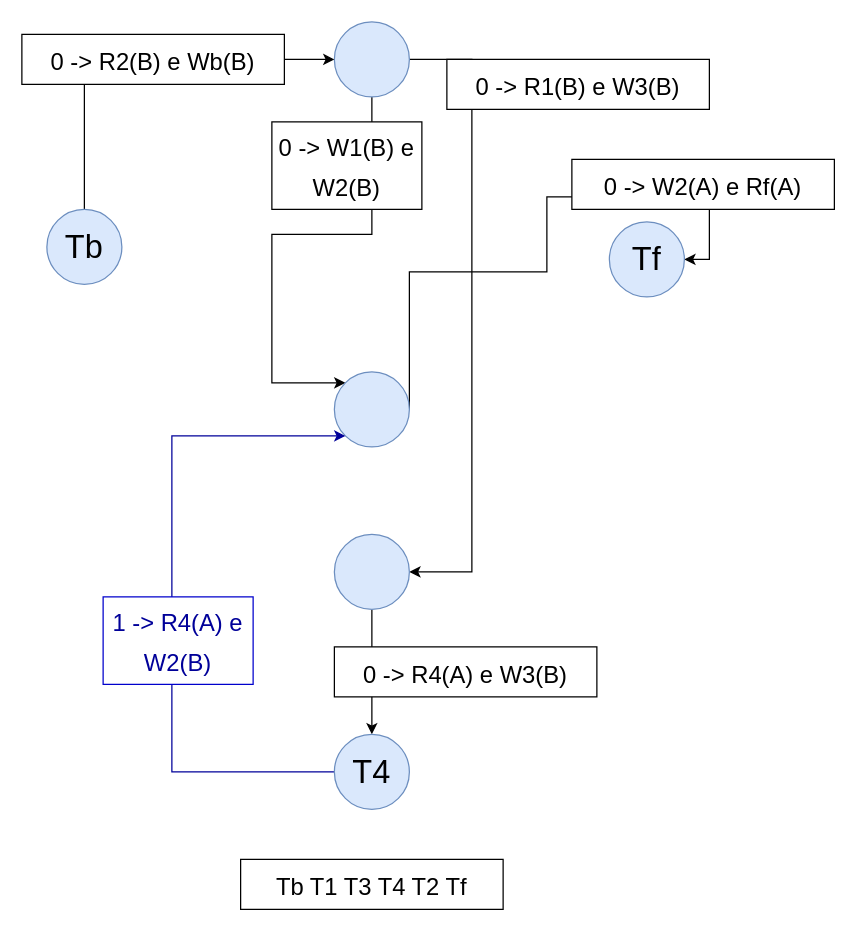
Some shapes in this 856 by 931 pixel diagram are drawn without their labels. Each missing label, with the centre of its shape:
T1: point (371, 59)
T2: point (371, 409)
T3: point (371, 571)
